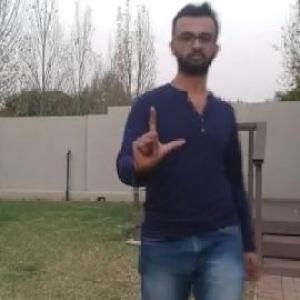land_hand: (124, 100, 190, 176)
